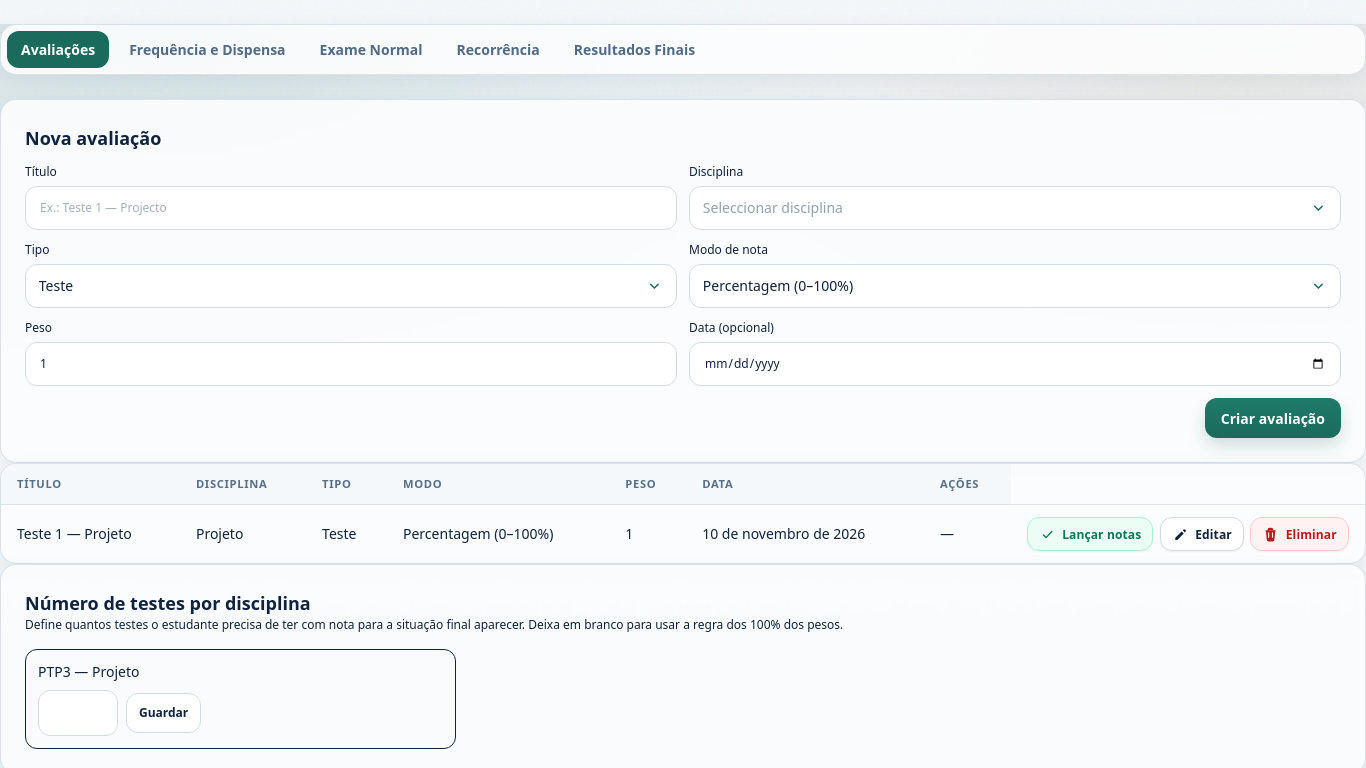
Scenario: AssessmentsPage › docente não tem opção de lançar exame/recorrência a estudante dispensado
This screenshot has width=1366, height=768.
Click the button "Lançar notas". click: {"x": 1090, "y": 534}
box: [1027,517,1153,551]
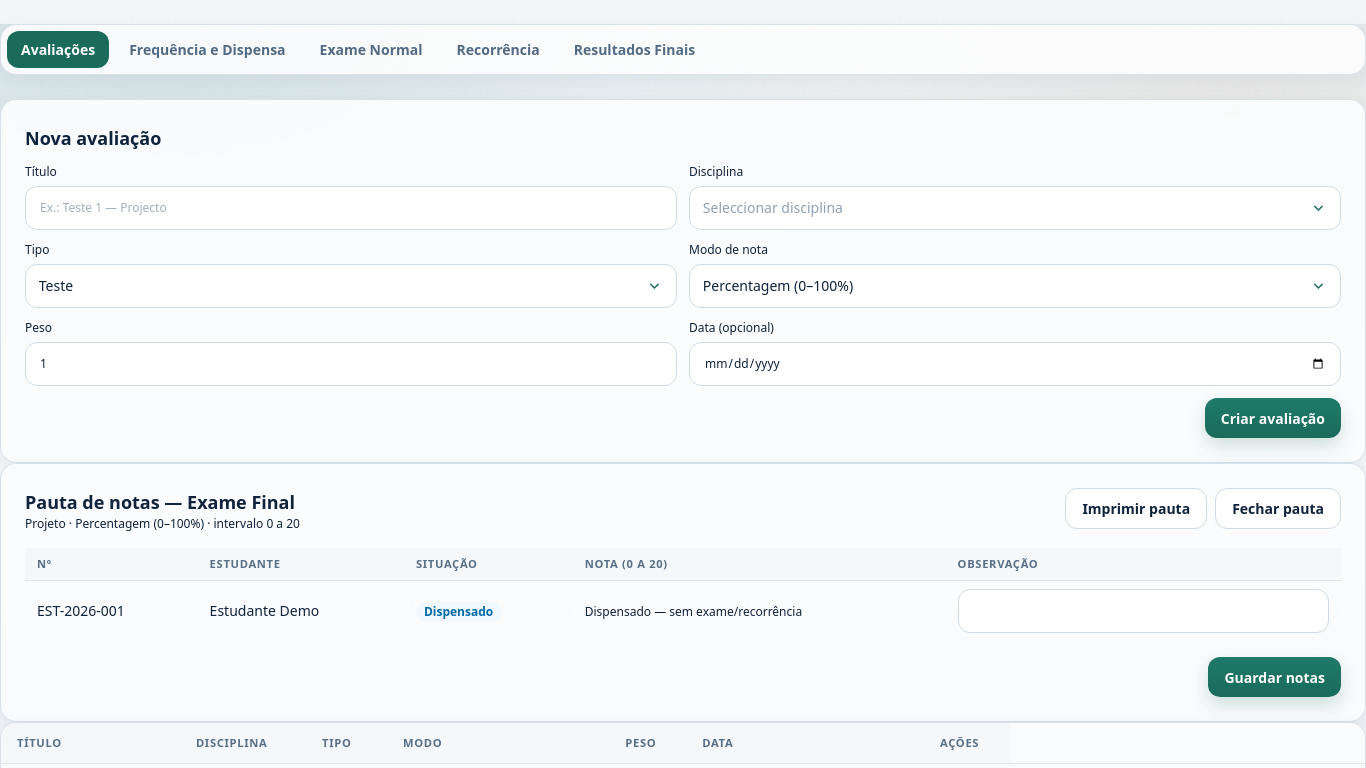
Now the heading "Pauta de notas — Exame Final" is shown, box [25,488,300,516]
Now the text "Dispensado" is shown, box [416,602,501,622]
Now the text "Dispensado — sem exame/recorrência" is shown, box [585,603,802,620]
